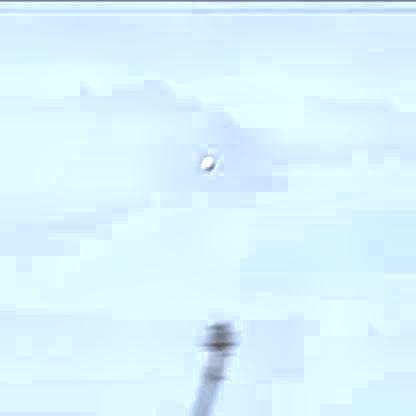golfball: (199, 155, 215, 168)
